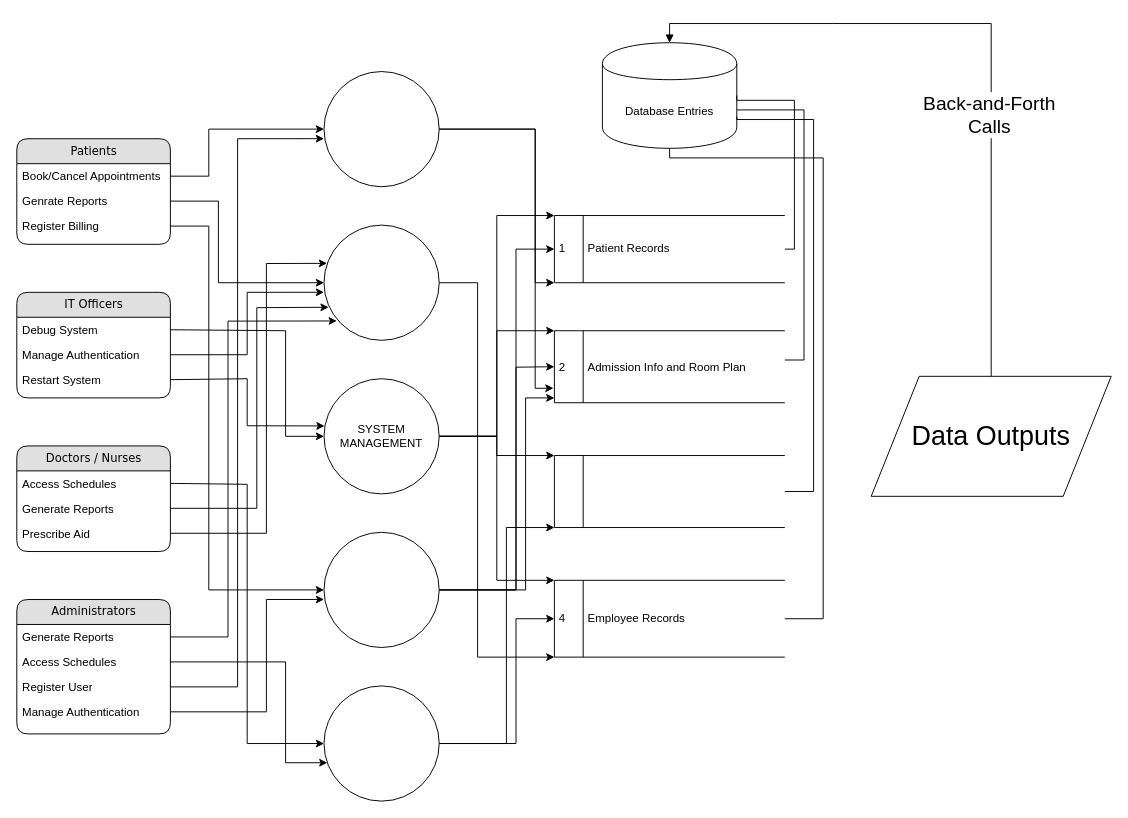
Some shapes in this 1128 by 818 pixel diagram are drawn without their labels. The shapes that lost their labels are listed below. From the top down, each one's box as (x1, y1, x2, y2) in pixels, then its label:
(323, 71, 439, 187): APPOINTMENT MANAGEMENT
(323, 224, 439, 340): RECORD TRACKING
(553, 455, 785, 528): 3 Pharmacy and Prescription Log
(323, 531, 439, 648): USER BILLING INFORMATION UPDATION
(323, 685, 439, 801): SCHEDULING MANAGEMENT
